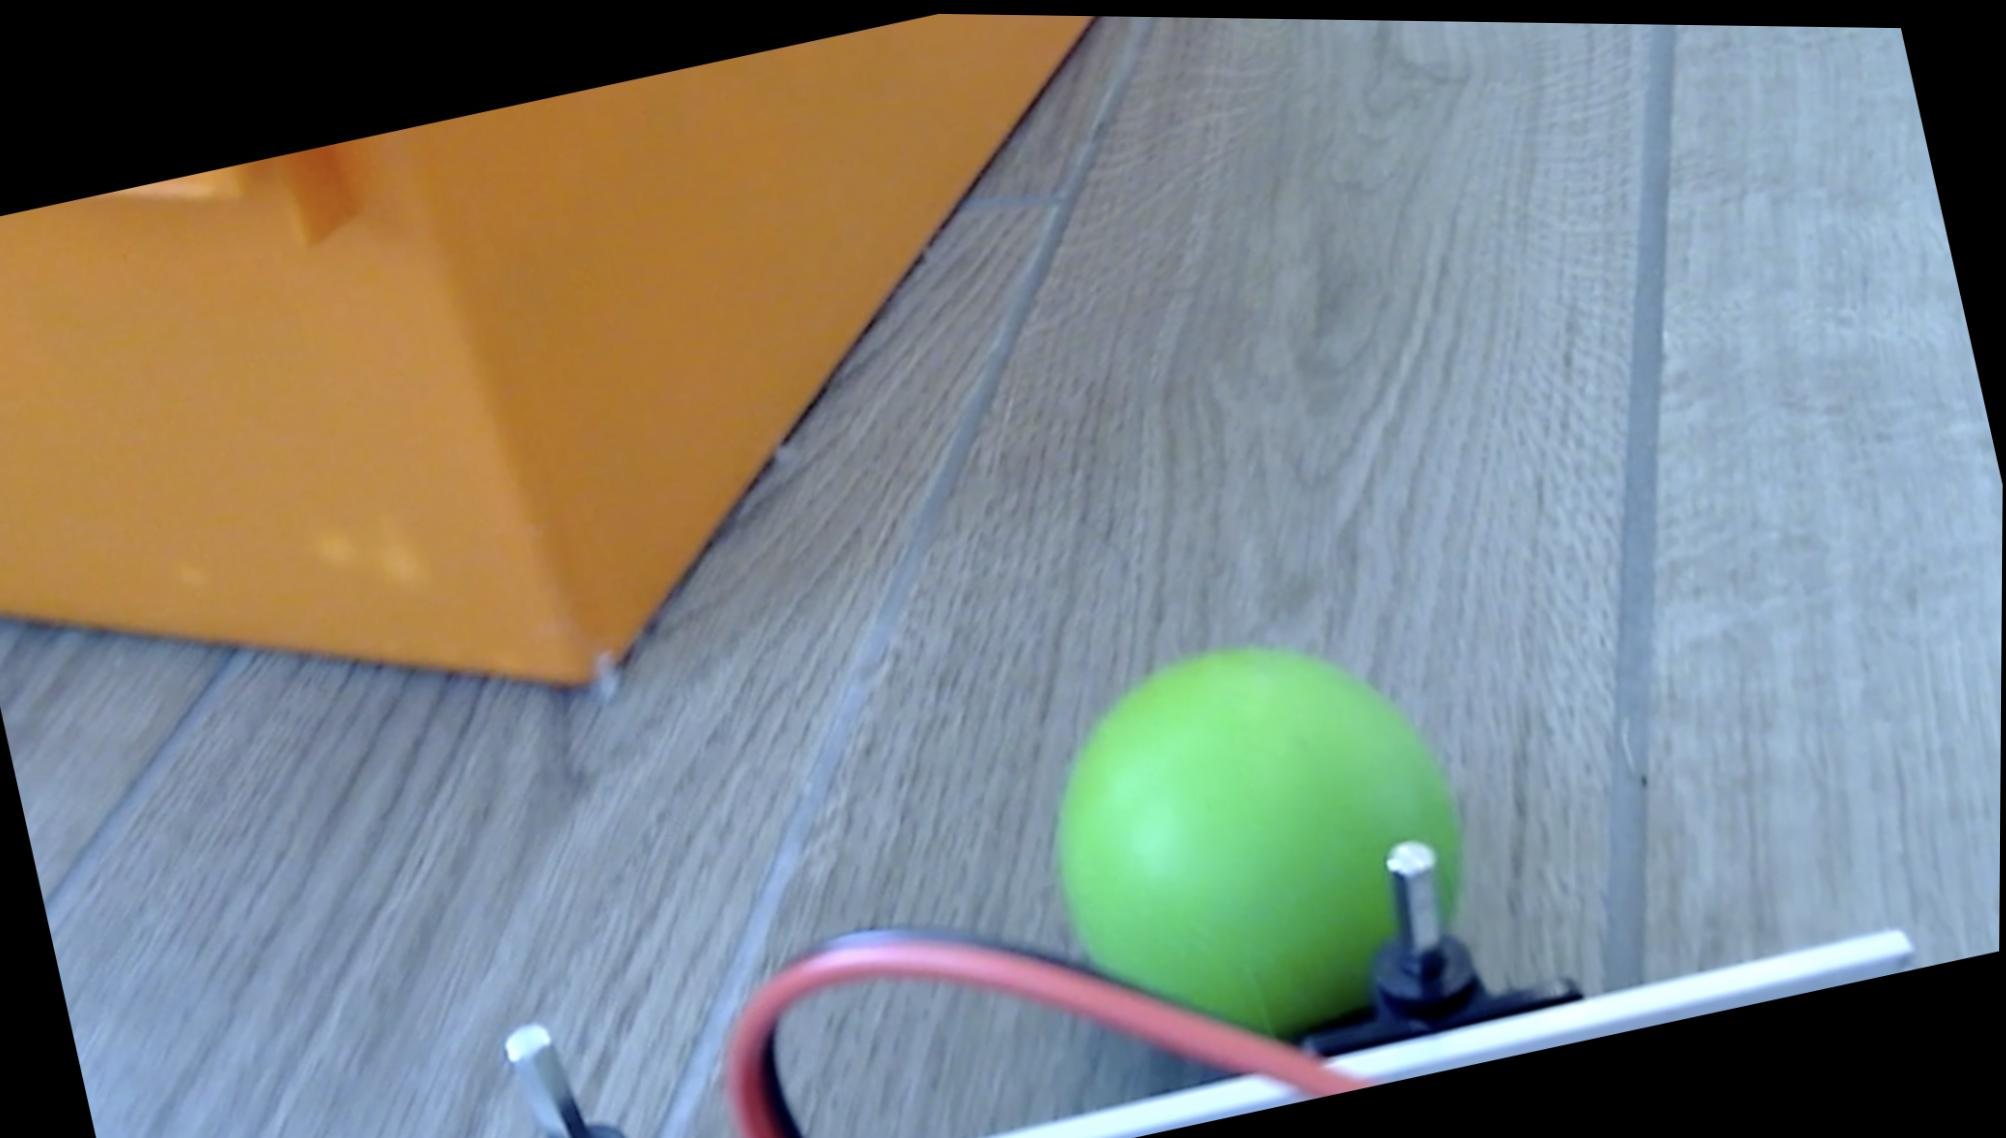greenball: (1011, 594, 1504, 1082)
